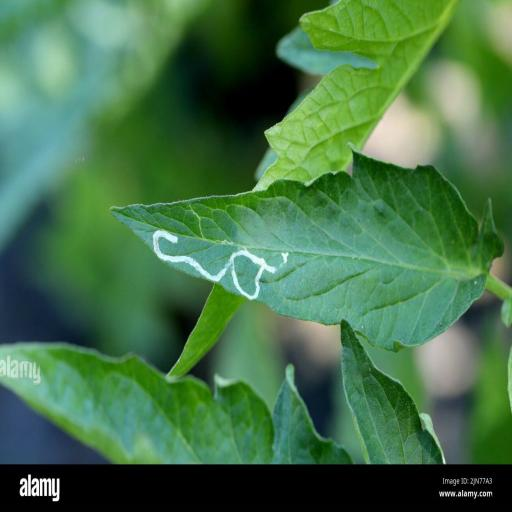disease_tomato: (111, 149, 502, 352)
